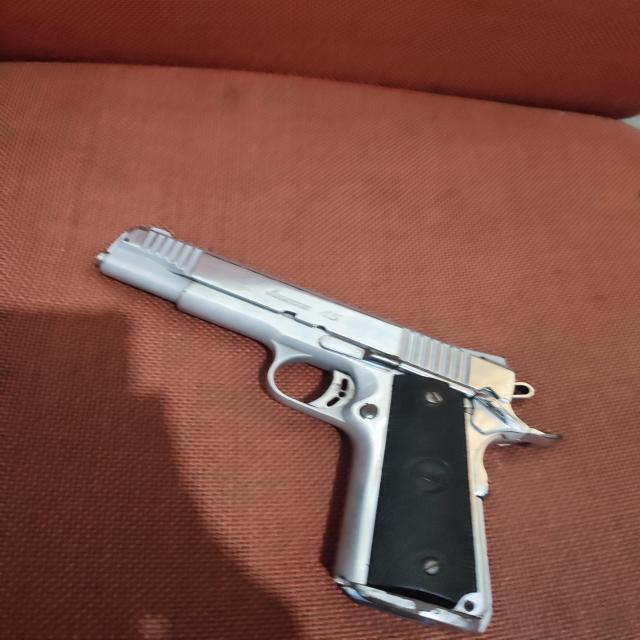pistol: (92, 224, 564, 632)
